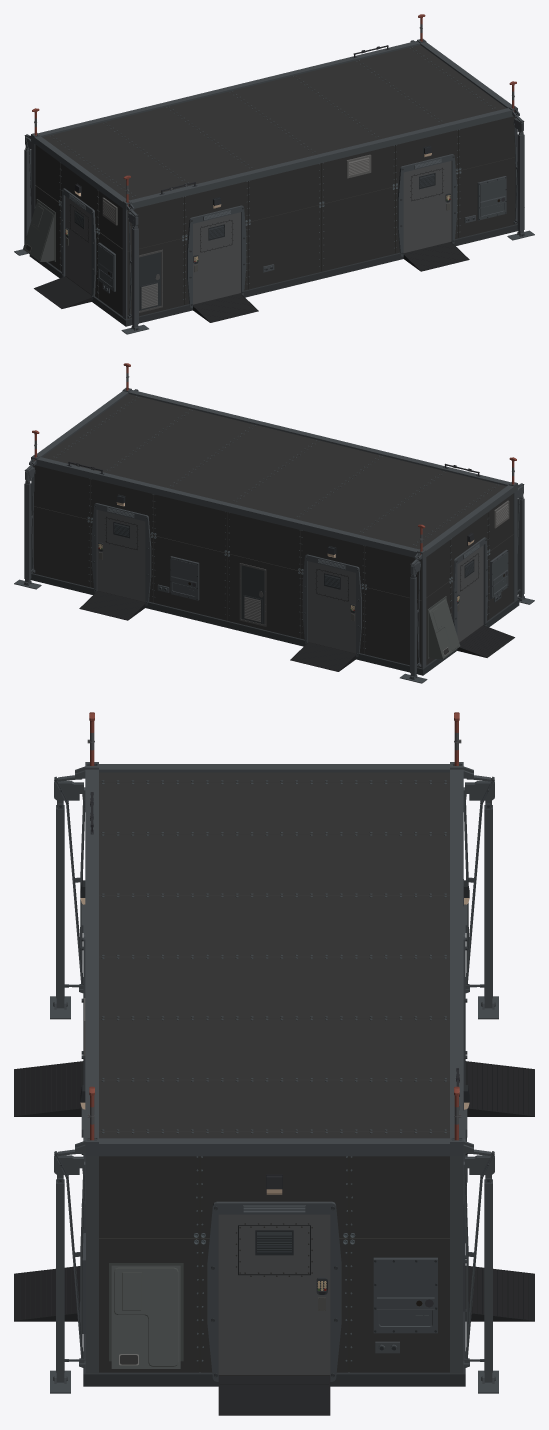
The model's file is SM_Fan_Broken.gltf.
The picture shows the model from 3 angles, top to bottom: view 1: azimuth 30°, elevation 25°; view 2: azimuth 150°, elevation 25°; view 3: azimuth 270°, elevation 25°; orthographic projection. The views are drawn at different scales.
Parts seen in each view (by area): view 1: SM_Medical_Laboratory, SM_Door_For_Medical_Laboratory_03, SM_Door_For_Medical_Laboratory_02, SM_Door_For_Medical_Laboratory_01, SM_Pilar_For_Medical_Laboratory_01, SM_Pilar_For_Medical_Laboratory_02, SM_Climb_For_Medical_Laboratory_02, SM_Climb_For_Medical_Laboratory_01, SM_Climb_For_Medical_Laboratory_06, SM_Pilar_For_Medical_Laboratory_03; view 2: SM_Medical_Laboratory, SM_Door_For_Medical_Laboratory_05, SM_Door_For_Medical_Laboratory_06, SM_Door_For_Medical_Laboratory_01, SM_Pilar_For_Medical_Laboratory_04, SM_Pilar_For_Medical_Laboratory_03, SM_Climb_For_Medical_Laboratory_04, SM_Climb_For_Medical_Laboratory_05, SM_Climb_For_Medical_Laboratory_06, SM_Pilar_For_Medical_Laboratory_02; view 3: SM_Medical_Laboratory, SM_Door_For_Medical_Laboratory_04, SM_Climb_For_Medical_Laboratory_03, SM_Pilar_For_Medical_Laboratory_01, SM_Pilar_For_Medical_Laboratory_04, SM_Pilar_For_Medical_Laboratory_02, SM_Pilar_For_Medical_Laboratory_03, SM_Climb_For_Medical_Laboratory_01, SM_Climb_For_Medical_Laboratory_05, SM_Climb_For_Medical_Laboratory_04, SM_Climb_For_Medical_Laboratory_02.
Part boxes in pixels (left/top/right/bottom): SM_Medical_Laboratory: left=23, top=14, right=518, bottom=326; SM_Door_For_Medical_Laboratory_03: left=403, top=161, right=451, bottom=252; SM_Door_For_Medical_Laboratory_02: left=193, top=212, right=240, bottom=304; SM_Door_For_Medical_Laboratory_01: left=65, top=196, right=91, bottom=294; SM_Pilar_For_Medical_Laboratory_01: left=507, top=110, right=534, bottom=240; SM_Pilar_For_Medical_Laboratory_02: left=121, top=204, right=148, bottom=334; SM_Climb_For_Medical_Laboratory_02: left=403, top=242, right=469, bottom=271; SM_Climb_For_Medical_Laboratory_01: left=193, top=293, right=258, bottom=322; SM_Climb_For_Medical_Laboratory_06: left=34, top=276, right=91, bottom=308; SM_Pilar_For_Medical_Laboratory_03: left=14, top=134, right=31, bottom=255; SM_Medical_Laboratory: left=30, top=363, right=519, bottom=675; SM_Door_For_Medical_Laboratory_05: left=97, top=510, right=145, bottom=601; SM_Door_For_Medical_Laboratory_06: left=308, top=561, right=355, bottom=653; SM_Door_For_Medical_Laboratory_01: left=457, top=545, right=483, bottom=642; SM_Pilar_For_Medical_Laboratory_04: left=14, top=459, right=41, bottom=589; SM_Pilar_For_Medical_Laboratory_03: left=400, top=553, right=427, bottom=683; SM_Climb_For_Medical_Laboratory_04: left=79, top=591, right=145, bottom=620; SM_Climb_For_Medical_Laboratory_05: left=290, top=642, right=355, bottom=671; SM_Climb_For_Medical_Laboratory_06: left=457, top=625, right=514, bottom=657; SM_Pilar_For_Medical_Laboratory_02: left=517, top=483, right=534, bottom=604; SM_Medical_Laboratory: left=81, top=712, right=467, bottom=1386; SM_Door_For_Medical_Laboratory_04: left=218, top=1214, right=330, bottom=1374; SM_Climb_For_Medical_Laboratory_03: left=218, top=1375, right=330, bottom=1415; SM_Pilar_For_Medical_Laboratory_01: left=50, top=1141, right=85, bottom=1393; SM_Pilar_For_Medical_Laboratory_04: left=463, top=1141, right=498, bottom=1393; SM_Pilar_For_Medical_Laboratory_02: left=50, top=766, right=85, bottom=1019; SM_Pilar_For_Medical_Laboratory_03: left=463, top=766, right=498, bottom=1019; SM_Climb_For_Medical_Laboratory_01: left=14, top=1061, right=83, bottom=1116; SM_Climb_For_Medical_Laboratory_05: left=465, top=1061, right=534, bottom=1116; SM_Climb_For_Medical_Laboratory_04: left=465, top=1266, right=534, bottom=1321; SM_Climb_For_Medical_Laboratory_02: left=14, top=1266, right=80, bottom=1321.
Bounding box in the file's own units: 13.99 × 4.4 × 7.
